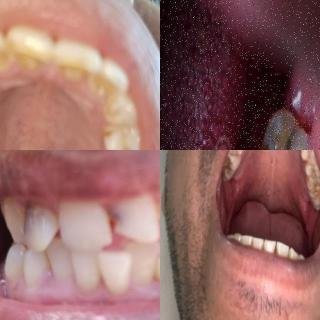calculus: (56, 56, 94, 88), (13, 48, 49, 74), (94, 72, 120, 100), (0, 48, 18, 80), (220, 157, 236, 178), (310, 177, 320, 203), (306, 150, 316, 166)
cavities: (252, 136, 307, 150), (102, 207, 126, 231)
maligned: (49, 40, 101, 92), (5, 28, 54, 80), (16, 198, 60, 247), (98, 252, 134, 294), (70, 247, 102, 289), (44, 236, 72, 284), (130, 240, 160, 277), (150, 246, 160, 294)
stains: (100, 126, 116, 149)
